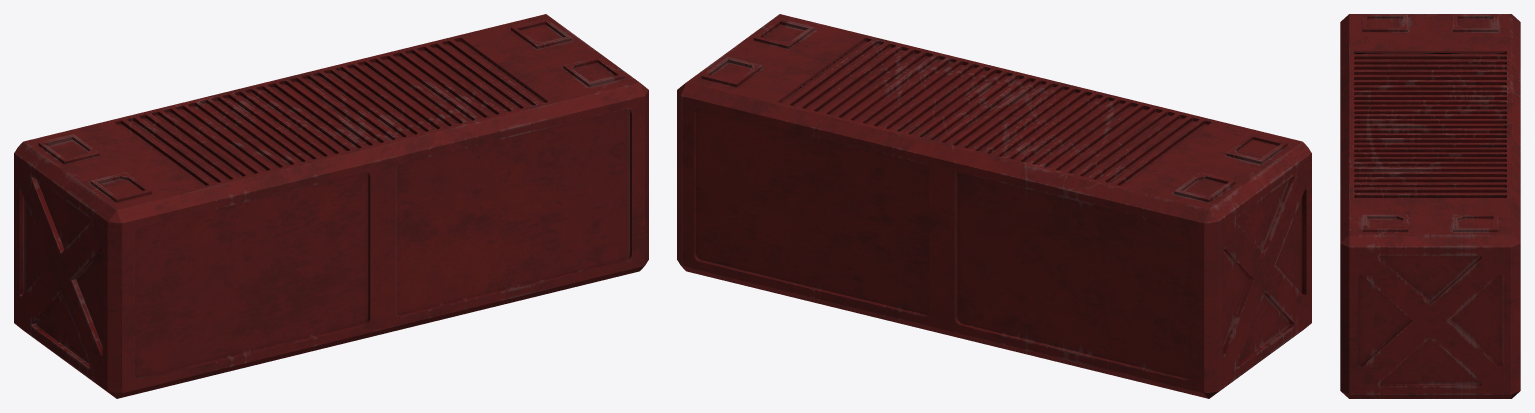
Rendered from container_red.fbx.
3 views of the same model, side by side, from view 1: azimuth 30°, elevation 25°; view 2: azimuth 150°, elevation 25°; view 3: azimuth 270°, elevation 25° (orthographic). The views are drawn at different scales.
Parts seen in each view (by area): view 1: Cube; view 2: Cube; view 3: Cube.
Part boxes in pixels (box(x1,y1,x2,y2)): Cube: box(14, 14, 648, 398); Cube: box(677, 14, 1311, 398); Cube: box(1340, 14, 1520, 398).
Bounding box in the file's own units: 600 × 203 × 200.
Materials: 1 (1 with a texture image).
